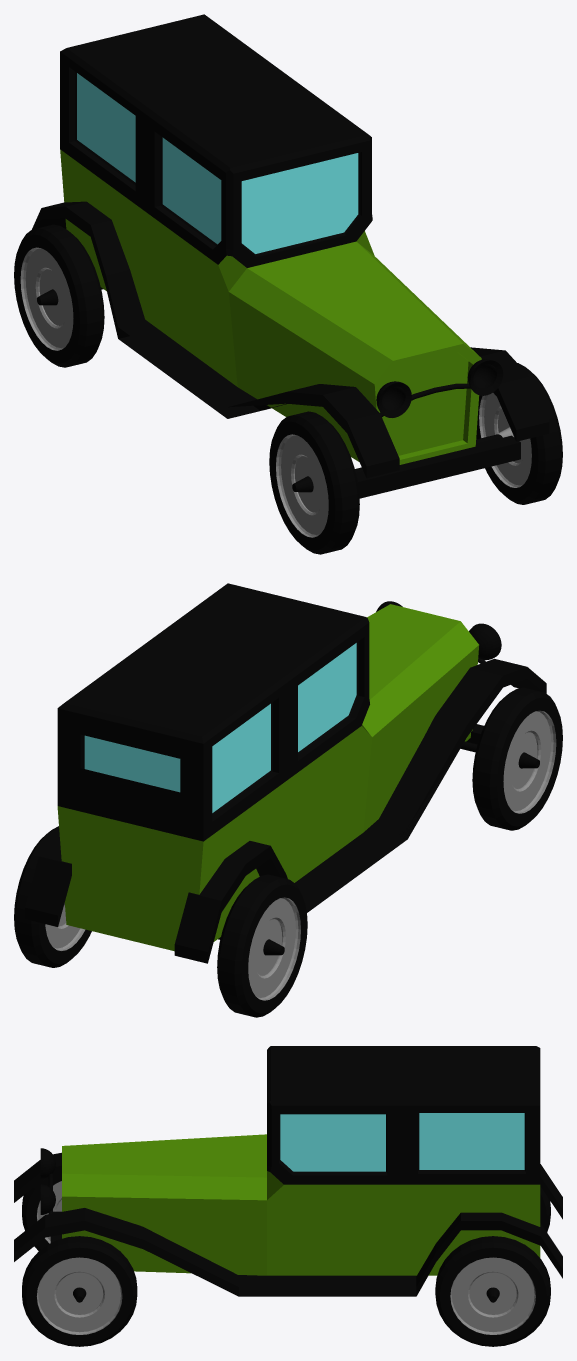
The model's file is citroen C4.gltf.
3 views of the same model, one above another, from view 1: azimuth 30°, elevation 25°; view 2: azimuth 150°, elevation 25°; view 3: azimuth 270°, elevation 25° (orthographic). The views are drawn at different scales.
Visible parts, largest first — view 1: Cube; view 2: Cube; view 3: Cube.
Part boxes in pixels (x1,y1,x2,y2): Cube: [14, 14, 562, 554]; Cube: [14, 583, 562, 1017]; Cube: [14, 1046, 562, 1346].
Bounding box in the file's own units: 0.0889 × 0.0993 × 0.2141.
1 material, 1 textured.
